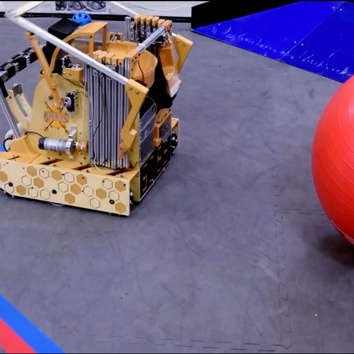ball: (72, 10, 92, 27)
robot: (0, 0, 196, 223)
yogaball: (307, 69, 354, 248)
